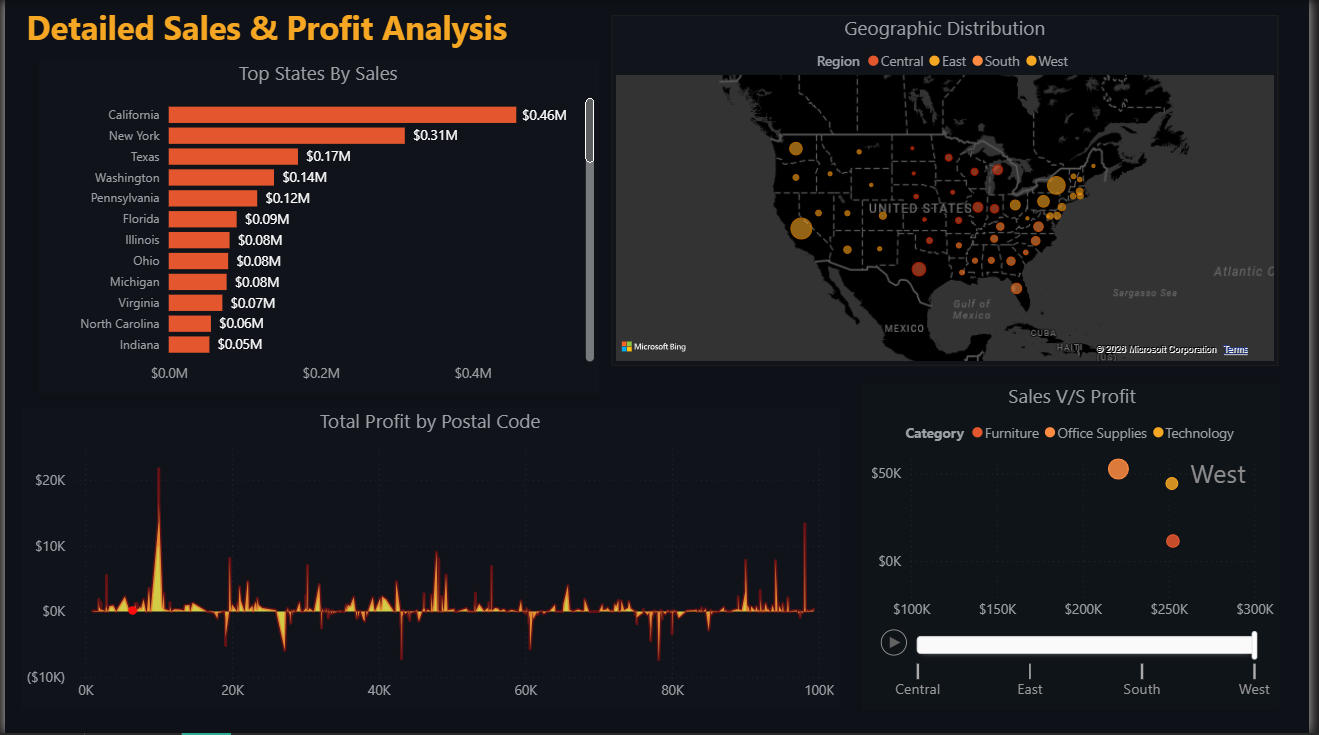

The dashboard page shown, as its layout file describes it:
{"tool":"powerbi","page":{"name":"Page 4","canvas":[1280,720],"ordinal":1},"visuals":[{"type":"clusteredBarChart","title":"Top States By Sales","fields":{"Category":["Sample - Superstore.State"],"Y":["Sample - Superstore.Total Sales"]},"box":[31.4,58.6,551.4,327.1],"z":0},{"type":"map","title":"Geographic Distribution","fields":{"Category":["Sample - Superstore.State"],"Size":["Sample - Superstore.Total Sales"],"Series":["Sample - Superstore.Region"]},"box":[595,15,655,345],"z":1},{"type":"lineChart","fields":{"Category":["Sample - Superstore.Postal Code"],"Y":["Sample - Superstore.Total Profit"]},"box":[15.7,400,802.9,297.1],"z":2},{"type":"scatterChart","title":"Sales V/S Profit","fields":{"X":["Sample - Superstore.Total Sales"],"Y":["Sample - Superstore.Total Profit"],"Size":["Sample - Superstore.Total Quantity"],"Series":["Sample - Superstore.Category"],"Play":["Sample - Superstore.Region"]},"box":[840,375,410,321.7],"z":3},{"type":"textbox","box":[15.7,0,495.7,62.9],"z":7}]}

Visuals, with their boxes in screenshot pixels (x1, y1, x2, y2), scaled from the page's 1280x720 canvas onto the 1319x735 screenshot:
"Top States By Sales" clusteredBarChart: (32,60,601,394)
"Geographic Distribution" map: (613,15,1288,368)
lineChart - Sample - Superstore.Postal Code x Sample - Superstore.Total Profit: (16,408,844,712)
"Sales V/S Profit" scatterChart: (866,383,1288,711)
textbox: (16,0,527,64)
